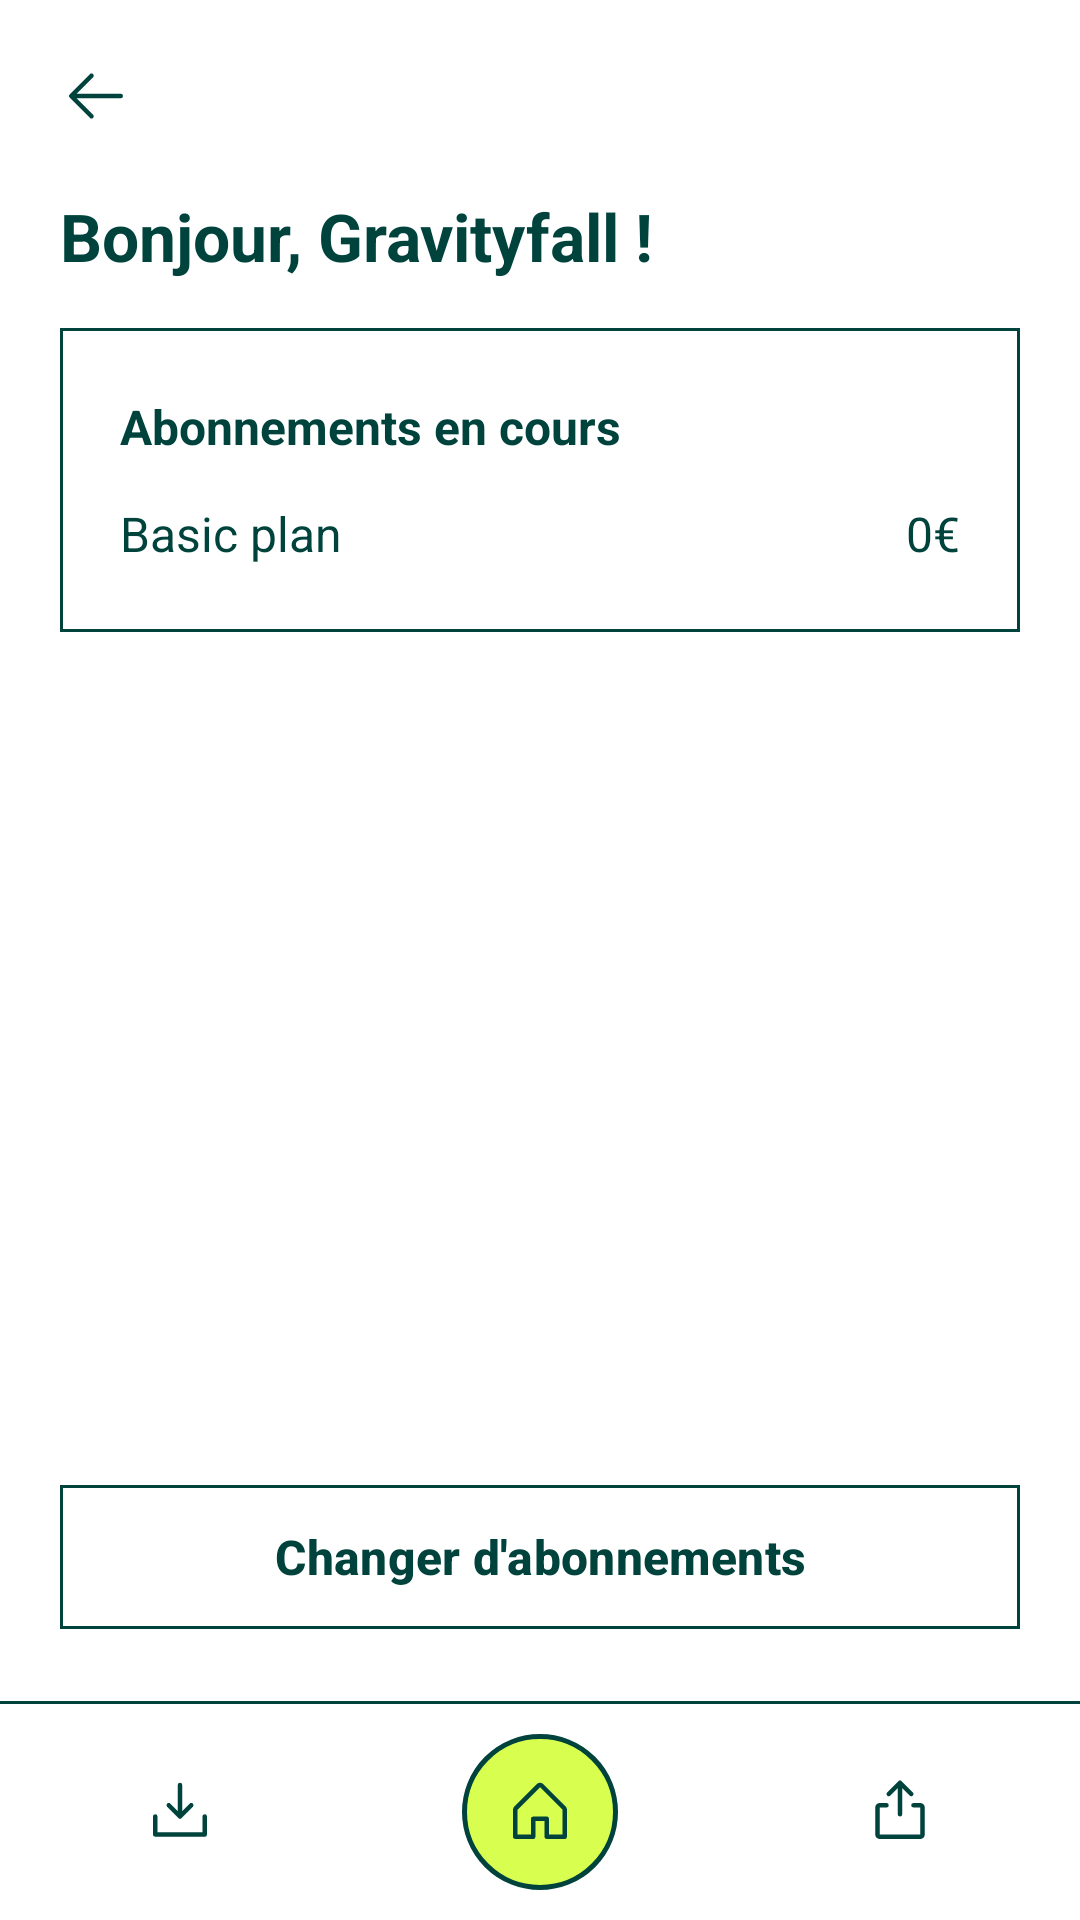

Icon click points for this 1080w x 1920h phone screenshot, format (x,y):
Accueil: (540,1812)
download: (180,1809)
Partager: (900,1809)
Retour: (96,96)
